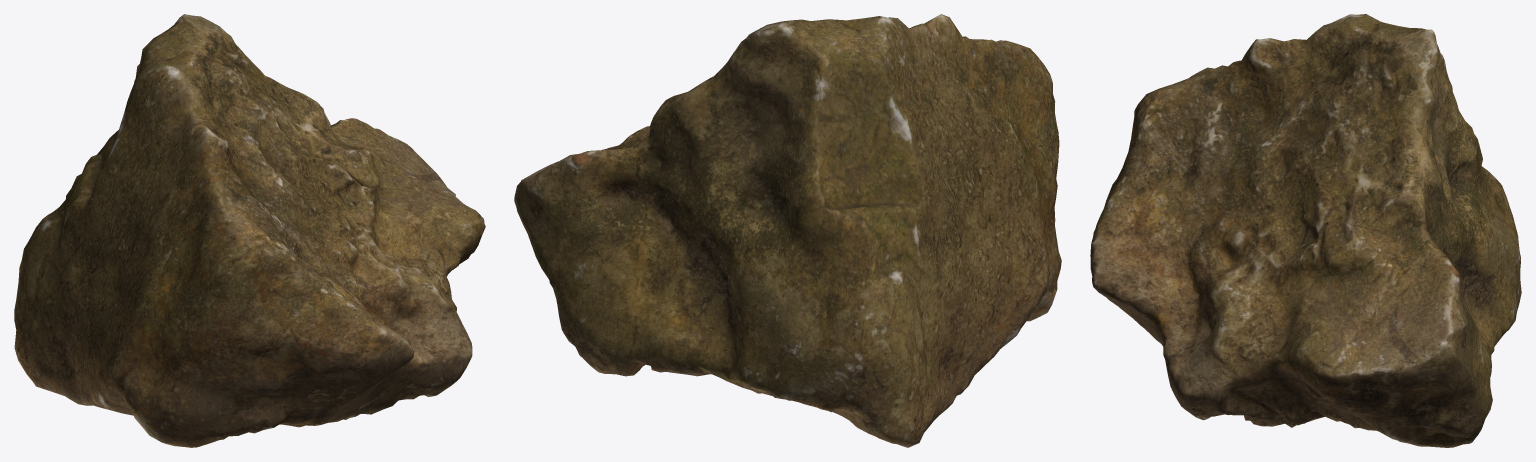
File: rock_mossy_b.glb
3 renders of one model, left to right at view 1: azimuth 30°, elevation 25°; view 2: azimuth 150°, elevation 25°; view 3: azimuth 270°, elevation 25°, orthographic. The views are drawn at different scales.
Visible parts, largest first — view 1: rock_mossy_b; view 2: rock_mossy_b; view 3: rock_mossy_b.
Part boxes in pixels (x1=…): rock_mossy_b: x1=14, y1=14, x2=485, y2=447; rock_mossy_b: x1=514, y1=14, x2=1061, y2=447; rock_mossy_b: x1=1090, y1=14, x2=1521, y2=447.
Bounding box in the file's own units: 7.45 × 6.19 × 6.88.
1 material, 1 textured.
